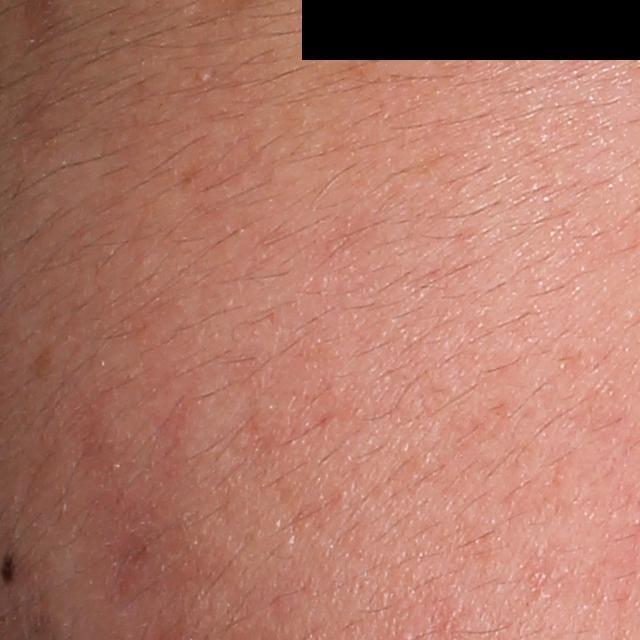nevus: (0, 550, 17, 584)
